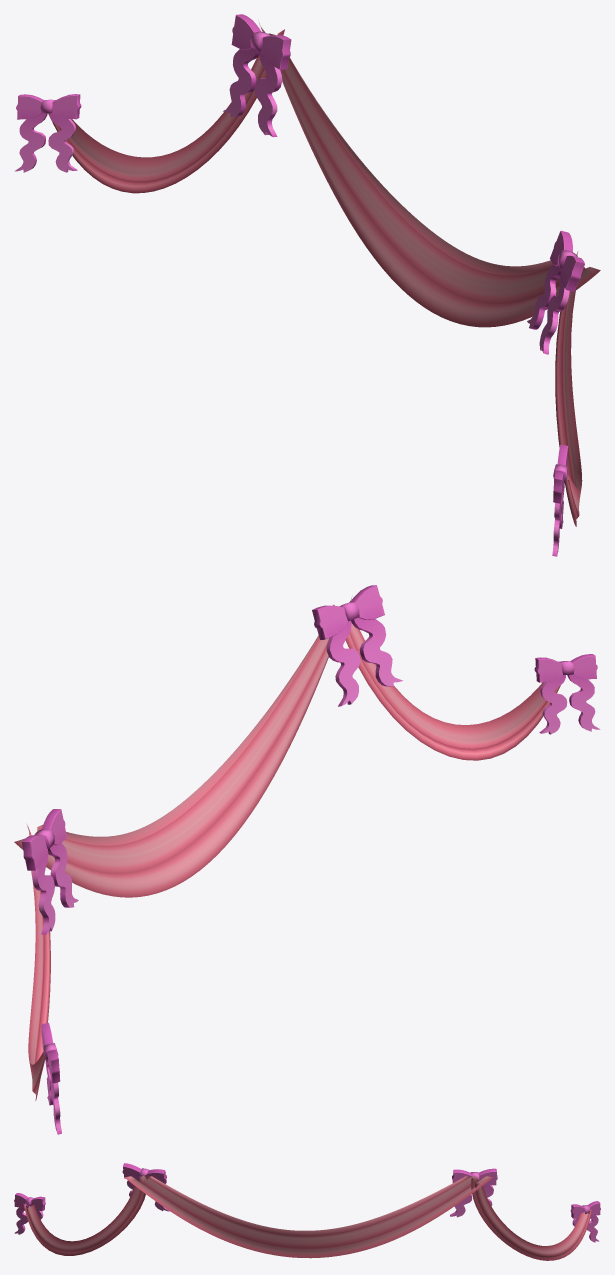
File: Doll_OB_Curtains01.fbx
3 views of the same model, one above another, from view 1: azimuth 30°, elevation 25°; view 2: azimuth 150°, elevation 25°; view 3: azimuth 270°, elevation 25° (orthographic). The views are drawn at different scales.
Parts seen in each view (by area): view 1: Doll_OB_Curtains01; view 2: Doll_OB_Curtains01; view 3: Doll_OB_Curtains01.
Part boxes in pixels (x1,y1,x2,y2): Doll_OB_Curtains01: (14,14,600,556); Doll_OB_Curtains01: (14,585,600,1134); Doll_OB_Curtains01: (14,1163,600,1260).
Bounding box in the file's own units: 21.89 × 27.3 × 129.
Materials: 1 (1 with a texture image).
